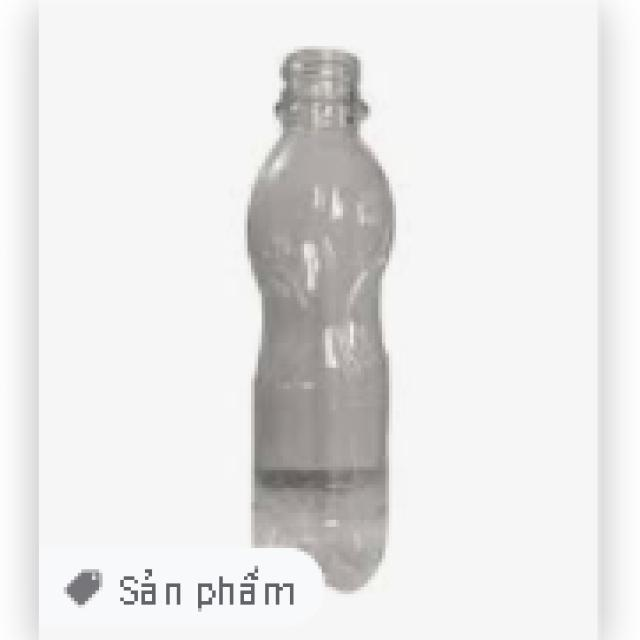plasticbottle: (238, 23, 406, 600)
